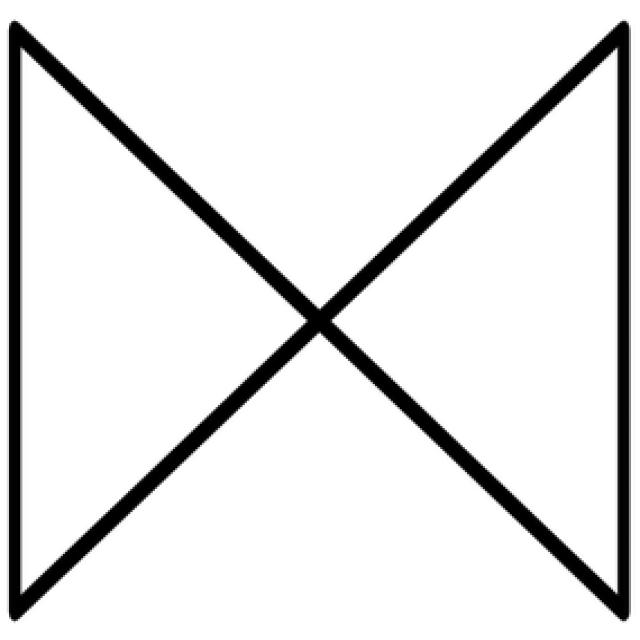Gate valve: (321, 27, 624, 609), (13, 28, 316, 610)
